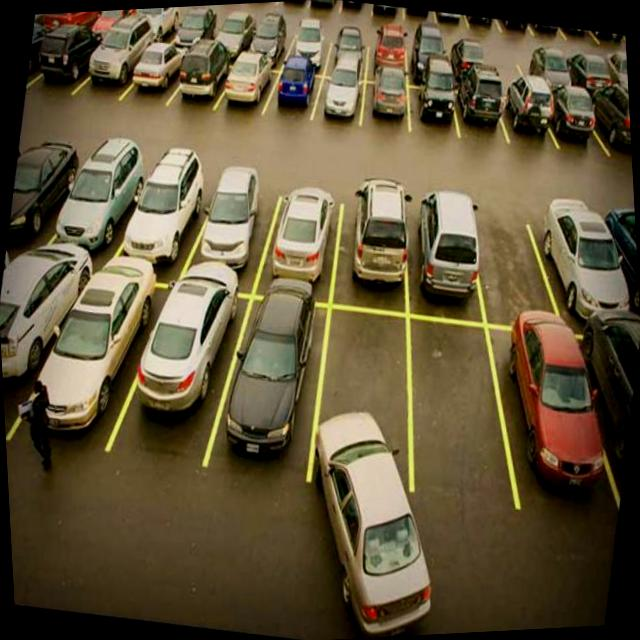car: (15, 250, 163, 468), (486, 310, 626, 516), (118, 273, 246, 463), (0, 225, 100, 453), (218, 294, 334, 479), (520, 198, 638, 344), (386, 186, 496, 330), (182, 159, 286, 304), (251, 174, 354, 320), (114, 145, 216, 292), (320, 174, 426, 312), (48, 138, 148, 270), (2, 132, 85, 263), (77, 26, 156, 108), (30, 31, 106, 106), (599, 199, 640, 333), (122, 34, 192, 111), (216, 47, 286, 124), (170, 41, 237, 118), (538, 86, 604, 162), (262, 56, 326, 130), (496, 80, 558, 152), (559, 36, 626, 102), (514, 35, 580, 99), (582, 87, 632, 170), (309, 66, 371, 132), (451, 80, 511, 147), (404, 70, 460, 139), (358, 72, 414, 136), (358, 28, 416, 87), (401, 31, 456, 91), (444, 36, 498, 92), (319, 28, 374, 82), (24, 23, 62, 98), (247, 17, 296, 71), (171, 4, 222, 54), (287, 26, 336, 76), (209, 5, 256, 56), (31, 13, 66, 78), (133, 7, 188, 48), (52, 11, 114, 44), (91, 8, 146, 41), (601, 40, 629, 102)
free: (386, 311, 522, 512), (304, 303, 432, 494), (450, 196, 566, 338), (476, 40, 530, 97)
